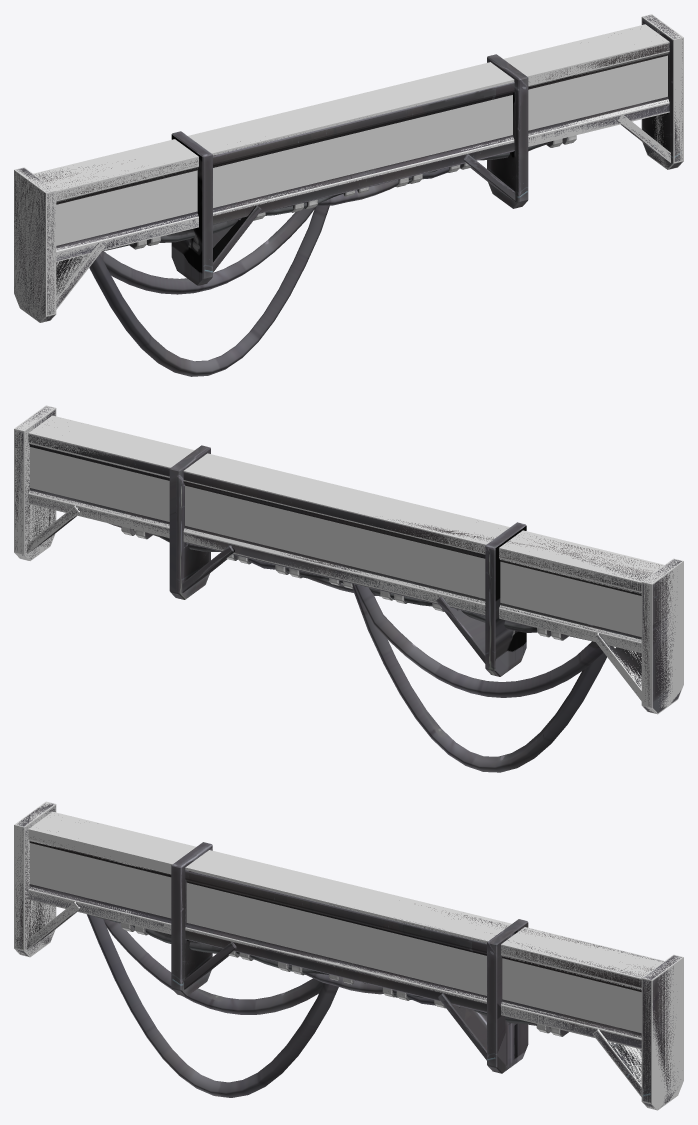
The model's file is ConstructParts.fbx.
The picture shows the model from 3 angles, top to bottom: view 1: azimuth 30°, elevation 25°; view 2: azimuth 150°, elevation 25°; view 3: azimuth 330°, elevation 25°; orthographic projection.
Parts seen in each view (by area): view 1: ConstructWithoutCable, ConstructWCabelShort, ConstructWLooseCable, ConstructWCabel; view 2: ConstructWithoutCable, ConstructWLooseCable, ConstructWCabel, ConstructWCabelShort; view 3: ConstructWithoutCable, ConstructWCabelShort, ConstructWLooseCable, ConstructWCabel.
Boxes of the visible parts, x1,y1,x2,y2 form: ConstructWithoutCable: [14, 14, 683, 322]; ConstructWCabelShort: [171, 54, 528, 285]; ConstructWLooseCable: [14, 15, 682, 376]; ConstructWCabel: [14, 15, 679, 321]; ConstructWithoutCable: [14, 405, 683, 714]; ConstructWLooseCable: [15, 410, 677, 772]; ConstructWCabel: [15, 406, 681, 712]; ConstructWCabelShort: [169, 445, 526, 676]; ConstructWithoutCable: [14, 801, 683, 1110]; ConstructWCabelShort: [171, 842, 528, 1073]; ConstructWLooseCable: [15, 804, 680, 1108]; ConstructWCabel: [15, 803, 681, 1107].
Size of the model in its own units: 1840 by 663 by 160.
